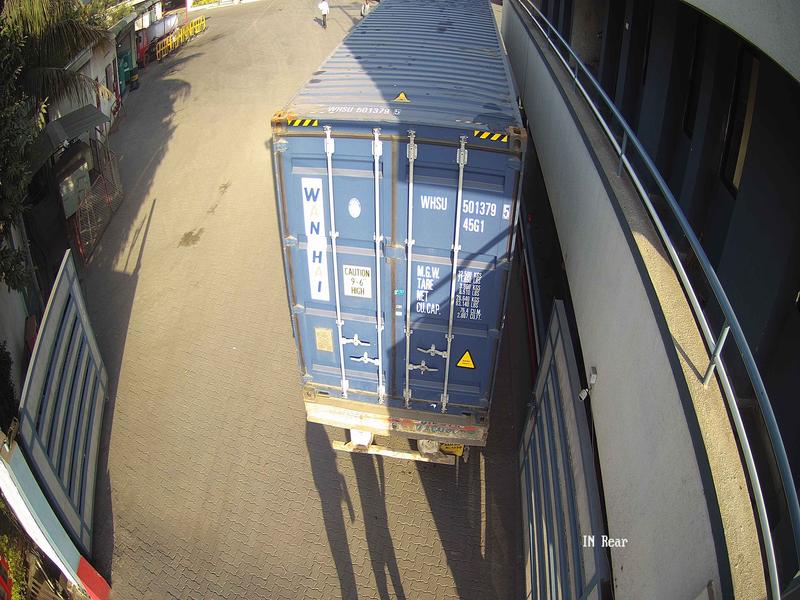container: (262, 105, 536, 439)
